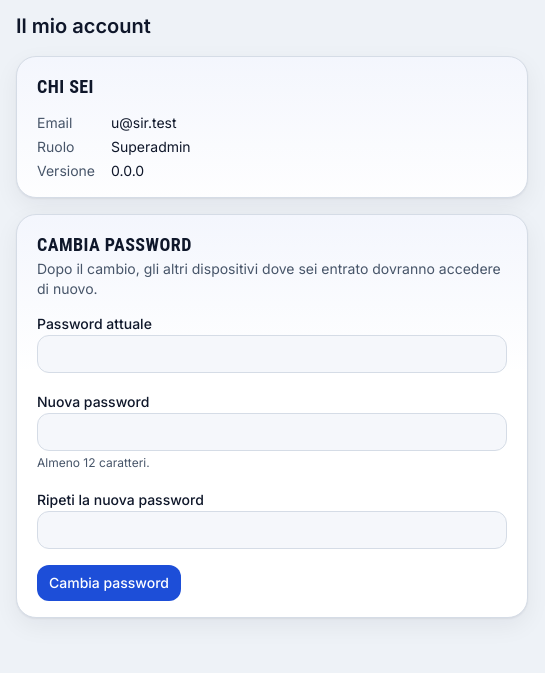
it: AccountPage › lets a superadmin outside any client change its password
Expected: the text "Superadmin" is shown, [111,138,191,155]
Type "password-attuale" into the password field labelled "Password attuale". click: (272, 354)
box: [37,335,507,373]
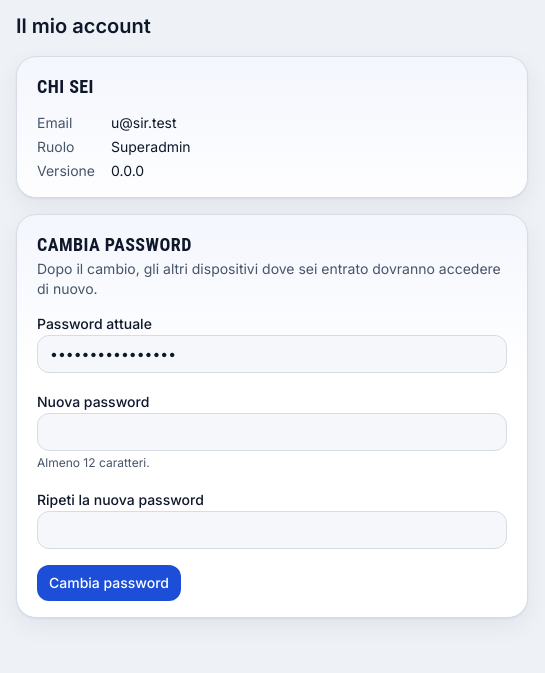
Type "password-nuova-lunga" into the password field labelled "Nuova password Almeno 12 caratteri.". click: (272, 432)
box: [37,413,507,451]
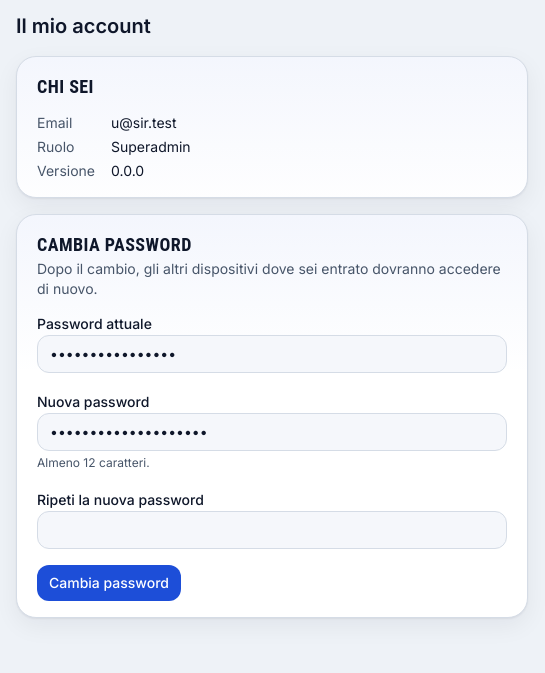
Type "password-nuova-lunga" into the password field labelled "Ripeti la nuova password". click: (272, 530)
box: [37,511,507,549]
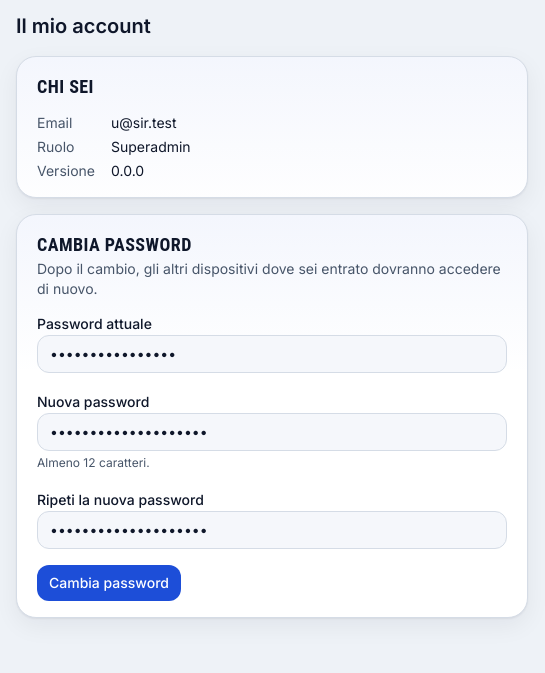
Click the button "Cambia password". click: (109, 583)
box: [37,565,181,601]
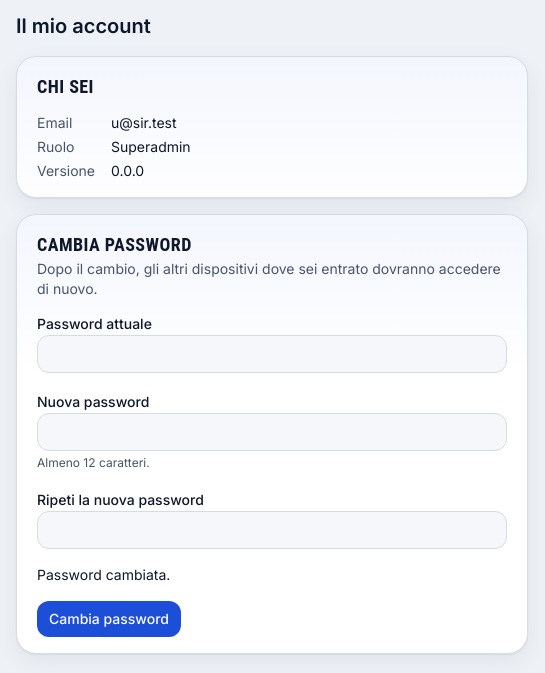
Now the message reads "Password cambiata.", box [37,566,170,583]
